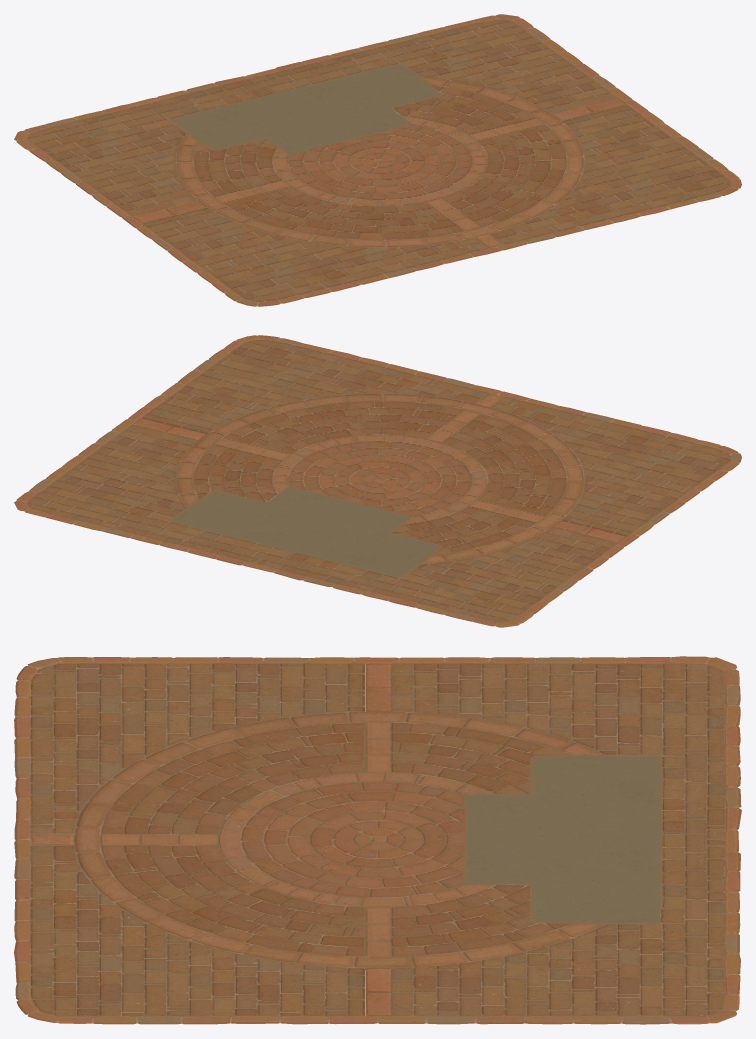
File: ground_model.glb
The picture shows the model from 3 angles, top to bottom: view 1: azimuth 30°, elevation 25°; view 2: azimuth 150°, elevation 25°; view 3: azimuth 270°, elevation 25°; orthographic projection. The views are drawn at different scales.
Parts seen in each view (by area): view 1: pPlane425__mPavement, pavementcircle3__mPavementCircle, polySurface124__mPlazaBrick; view 2: pPlane425__mPavement, pavementcircle3__mPavementCircle, polySurface124__mPlazaBrick; view 3: pPlane425__mPavement, pavementcircle3__mPavementCircle, polySurface124__mPlazaBrick.
Part boxes in pixels (x1,y1,x2,y2): pPlane425__mPavement: [26, 19, 730, 302]; pavementcircle3__mPavementCircle: [170, 63, 566, 239]; polySurface124__mPlazaBrick: [14, 14, 741, 306]; pPlane425__mPavement: [26, 339, 730, 622]; pavementcircle3__mPavementCircle: [170, 401, 566, 577]; polySurface124__mPlazaBrick: [14, 335, 741, 627]; pPlane425__mPavement: [26, 661, 729, 1019]; pavementcircle3__mPavementCircle: [100, 722, 662, 956]; polySurface124__mPlazaBrick: [14, 656, 741, 1024].
Bounding box in the file's own units: 119 × 0.3 × 99.38.
3 materials, 3 textured.
